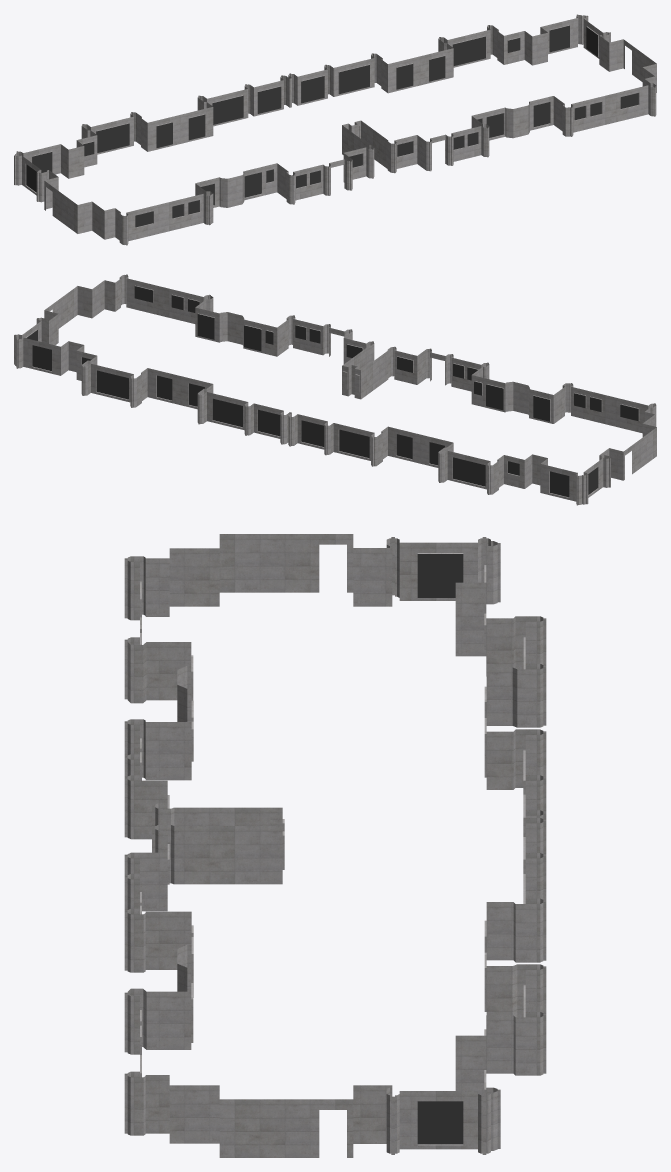
File: BLD-2-1F.FBX
3 views of the same model, one above another, from view 1: azimuth 30°, elevation 25°; view 2: azimuth 150°, elevation 25°; view 3: azimuth 270°, elevation 25° (orthographic). The views are drawn at different scales.
Parts seen in each view (by area): view 1: BLD-2-Exterior-Ground; view 2: BLD-2-Exterior-Ground; view 3: BLD-2-Exterior-Ground.
Part boxes in pixels (bbox=[...]): BLD-2-Exterior-Ground: bbox=[14, 14, 656, 245]; BLD-2-Exterior-Ground: bbox=[14, 274, 656, 505]; BLD-2-Exterior-Ground: bbox=[124, 534, 546, 1157].
Bounding box in the file's own units: 44.22 × 2.13 × 13.95.
